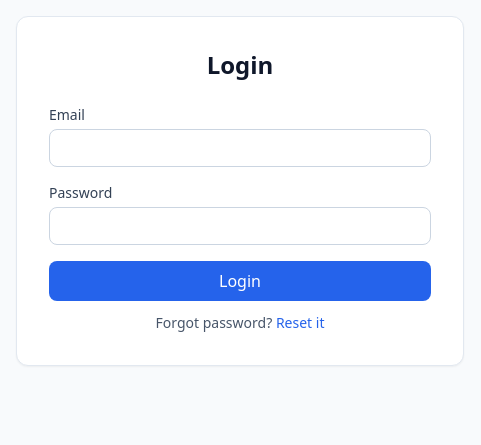
auth pages red alerts › renders red alert when login fails
Type "employee@epam.com" into the field named "Email" at [240, 148], box [49,129,431,167]
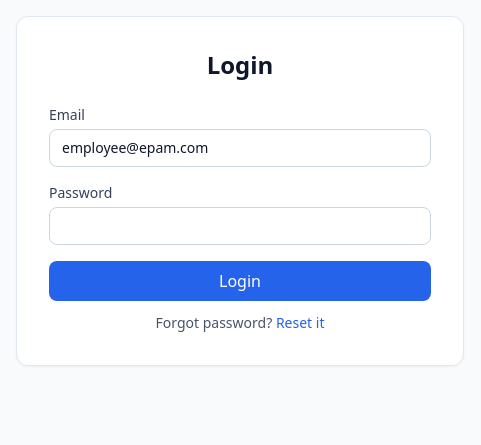
Type "WrongPass123!" into the password field named "Password" at [240, 226], box [49,207,431,245]
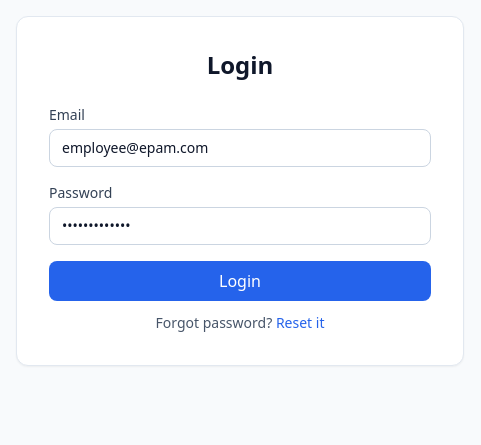
Submit the form, box [49,105,431,301]
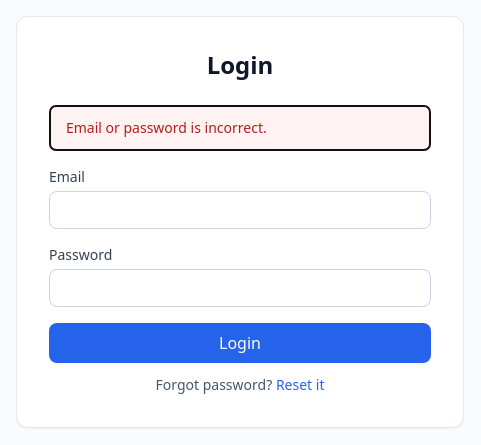
Result: the message "Email or password is incorrect." is shown at [49,105,431,151]
